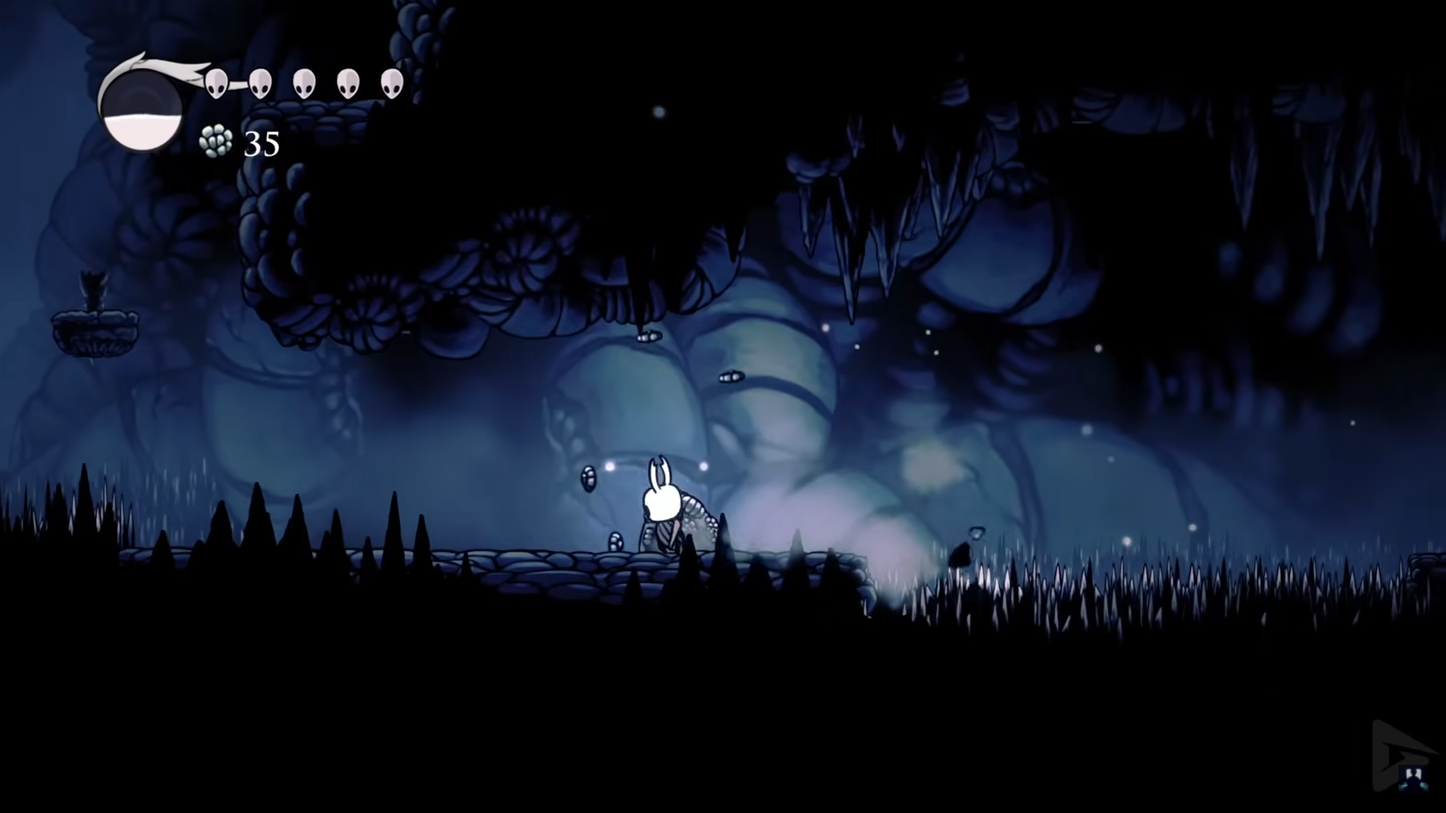HK: (637, 452, 685, 553)
